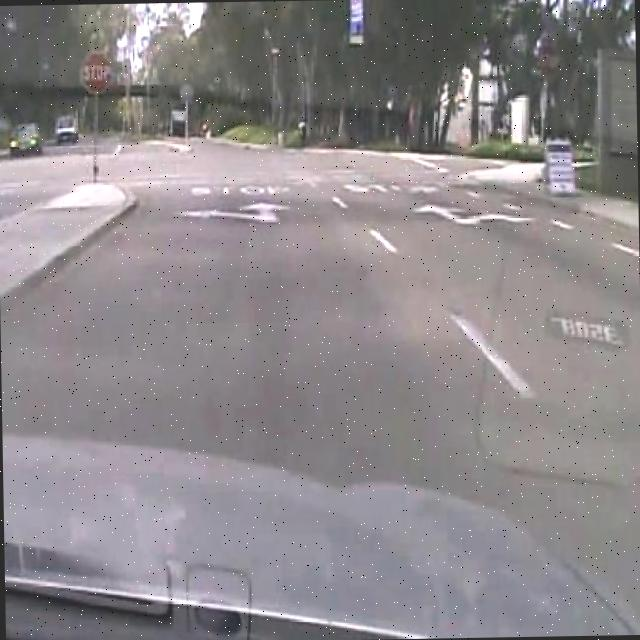Stop: (79, 49, 115, 96)
